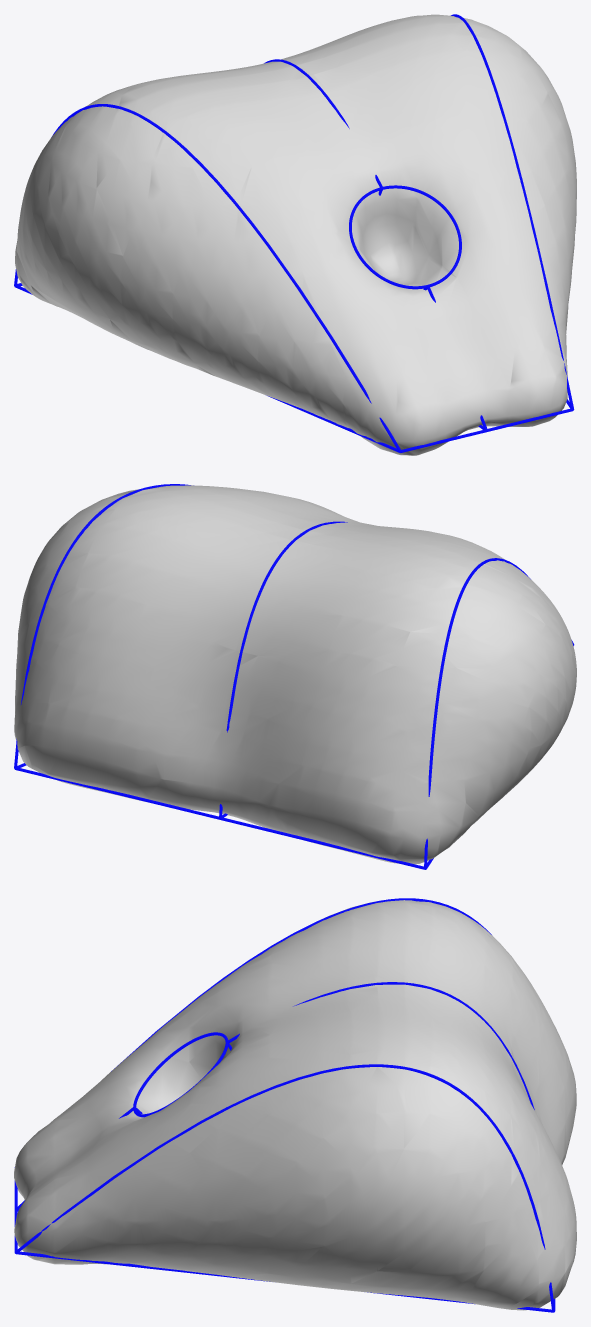
The model's file is onshape_simple_mouse_sketch_proxy.glb.
3 views of the same model, one above another, from view 1: azimuth 30°, elevation 25°; view 2: azimuth 150°, elevation 25°; view 3: azimuth 270°, elevation 25° (orthographic).
Parts seen in each view (by area): view 1: onshape_simple_mouse_surface, onshape_simple_mouse; view 2: onshape_simple_mouse_surface, onshape_simple_mouse; view 3: onshape_simple_mouse_surface, onshape_simple_mouse.
Part boxes in pixels (x1,y1,x2,y2): onshape_simple_mouse_surface: (15, 14, 576, 455); onshape_simple_mouse: (14, 14, 574, 452); onshape_simple_mouse_surface: (14, 485, 576, 864); onshape_simple_mouse: (14, 484, 574, 869); onshape_simple_mouse_surface: (14, 900, 576, 1310); onshape_simple_mouse: (14, 898, 555, 1312).
Bounding box in the file's own units: 0.7737 × 0.3679 × 0.739.
